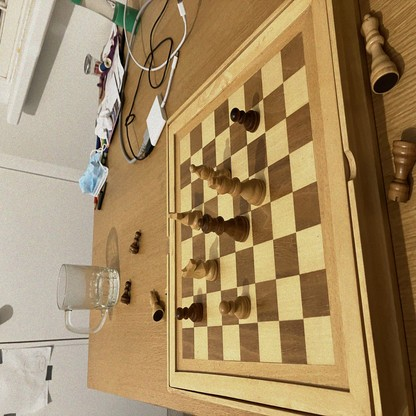bishop_white: (190, 163, 230, 182)
king_white: (208, 177, 266, 206)
knight_white: (183, 260, 217, 280), (170, 209, 204, 229)
pawn_black: (231, 108, 260, 132), (177, 304, 204, 322), (130, 231, 142, 253), (120, 280, 131, 304)
pawn_white: (219, 297, 251, 318)
queen_white: (361, 13, 398, 94), (149, 290, 163, 322)
rock_black: (389, 141, 416, 203)
